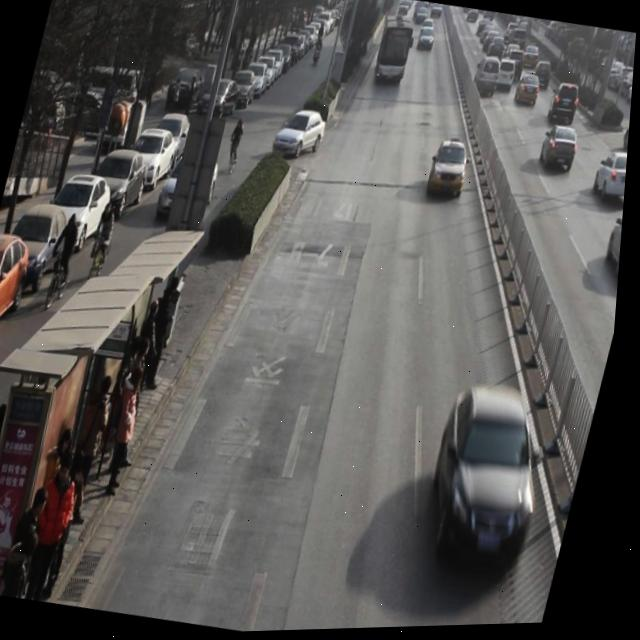car: (424, 385, 569, 580), (158, 150, 224, 225), (271, 107, 332, 164), (429, 139, 474, 200), (539, 126, 584, 178), (592, 152, 630, 211), (547, 82, 584, 132), (605, 209, 627, 281), (514, 73, 545, 111), (494, 61, 519, 96), (530, 62, 555, 95), (504, 51, 528, 84), (416, 28, 437, 58), (522, 45, 543, 72), (487, 38, 508, 62), (483, 31, 501, 55), (509, 30, 529, 51), (505, 23, 521, 45), (503, 46, 521, 64), (414, 8, 429, 28), (423, 20, 434, 32), (519, 18, 530, 28)
truck: (471, 59, 503, 102)
van: (370, 15, 416, 87)
